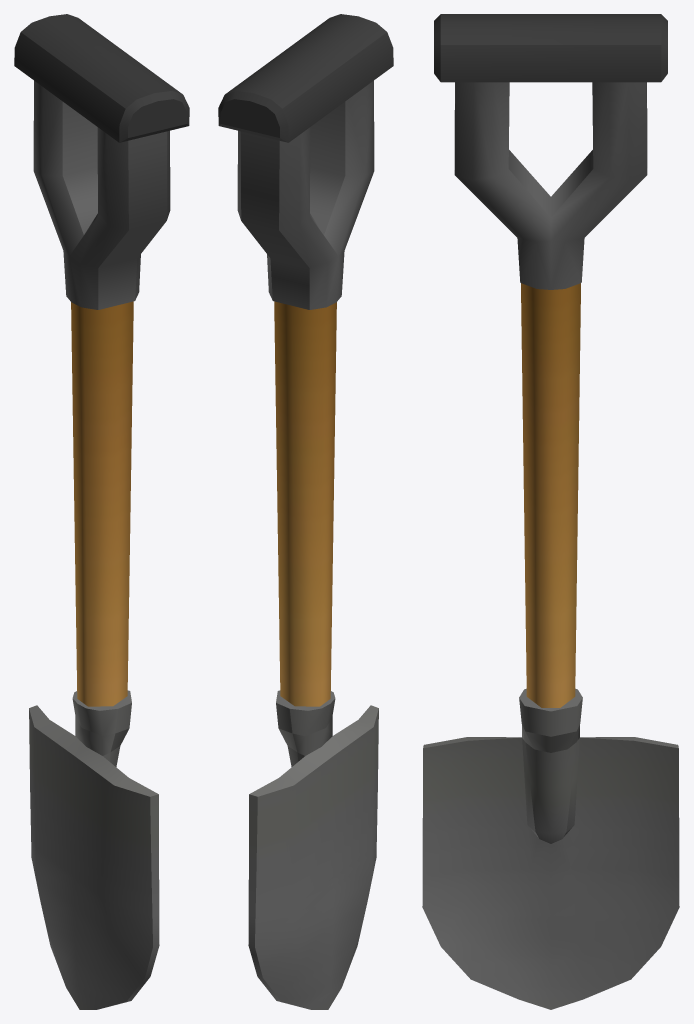
The model's file is Shovel_B.fbx.
The picture shows the model from 3 angles, left to right: view 1: azimuth 30°, elevation 25°; view 2: azimuth 150°, elevation 25°; view 3: azimuth 270°, elevation 25°; orthographic projection. The views are drawn at different scales.
Visible parts, largest first — view 1: Shovel_B; view 2: Shovel_B; view 3: Shovel_B.
Part boxes in pixels (x1,y1,x2,y2): Shovel_B: [14, 14, 189, 1009]; Shovel_B: [218, 14, 393, 1009]; Shovel_B: [422, 14, 679, 1009].
Bounding box in the file's own units: 10.85 × 140 × 32.71.
